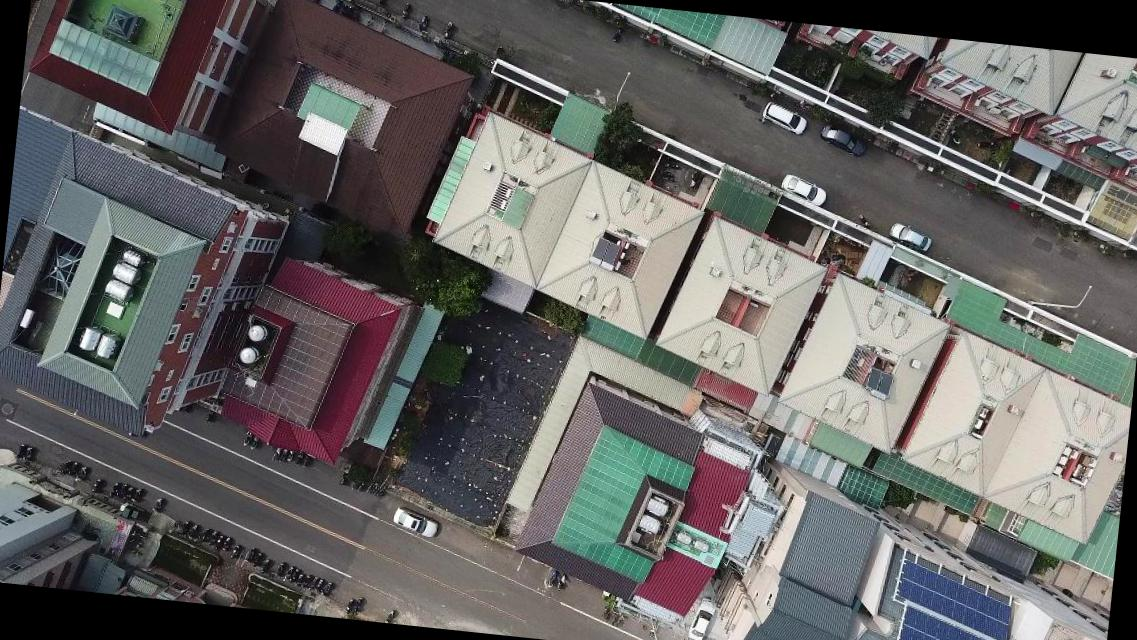vehicle: (817, 120, 871, 158), (758, 101, 812, 135), (777, 172, 828, 206), (390, 506, 440, 538), (887, 220, 934, 252), (688, 596, 716, 639)
